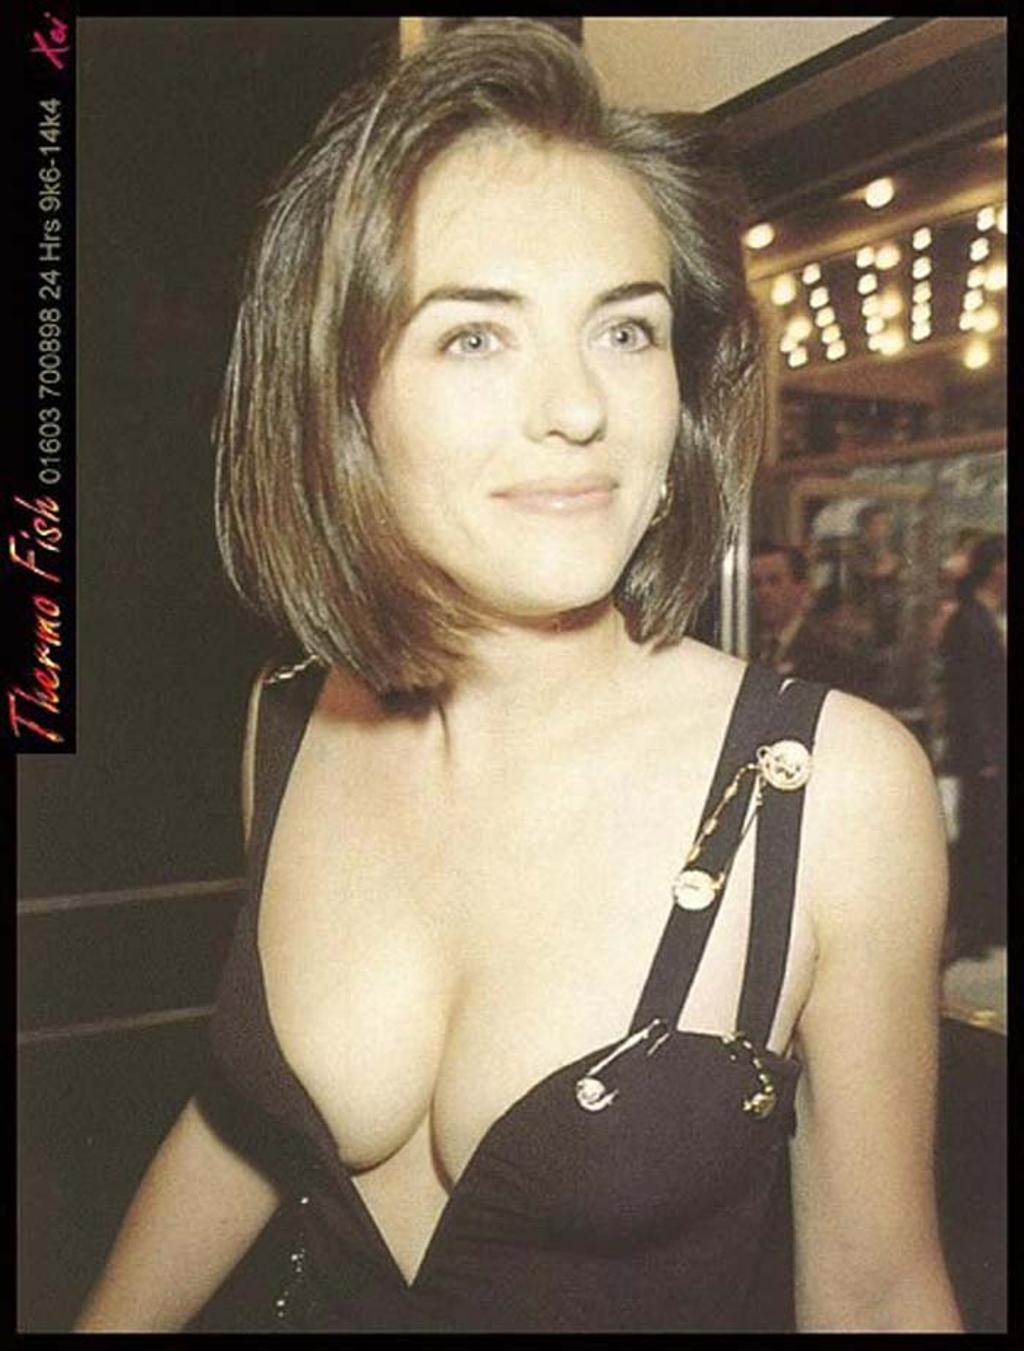face: (375, 129, 679, 609), (742, 549, 797, 626)
